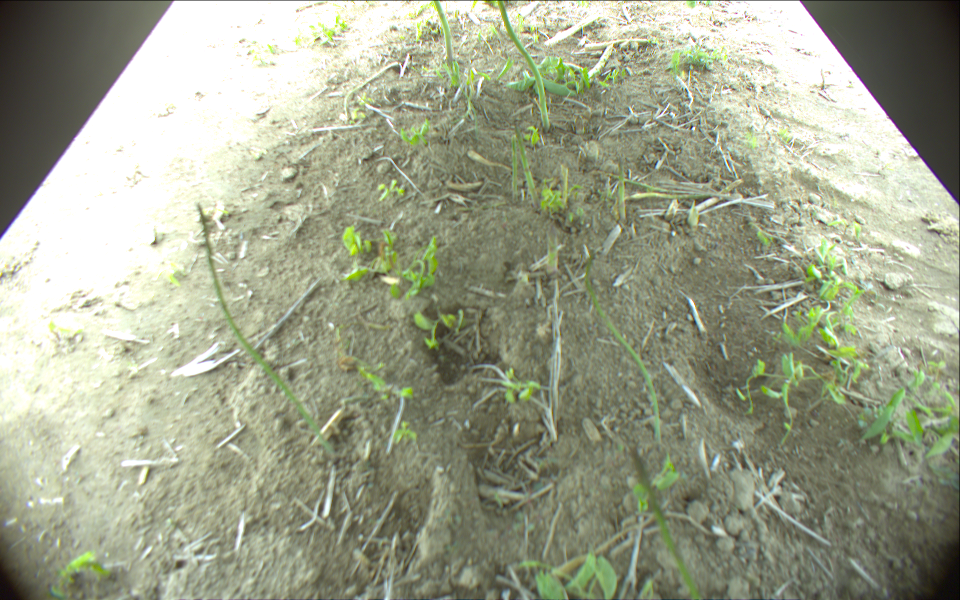aspa: (195, 201, 332, 451), (578, 247, 662, 441), (628, 447, 703, 600), (496, 1, 553, 129), (341, 60, 399, 122), (513, 119, 540, 203), (543, 13, 601, 48), (689, 177, 743, 213), (430, 1, 454, 71), (584, 40, 614, 82), (507, 133, 524, 201), (583, 35, 663, 48), (618, 190, 733, 198), (543, 222, 560, 272), (616, 161, 627, 217)
